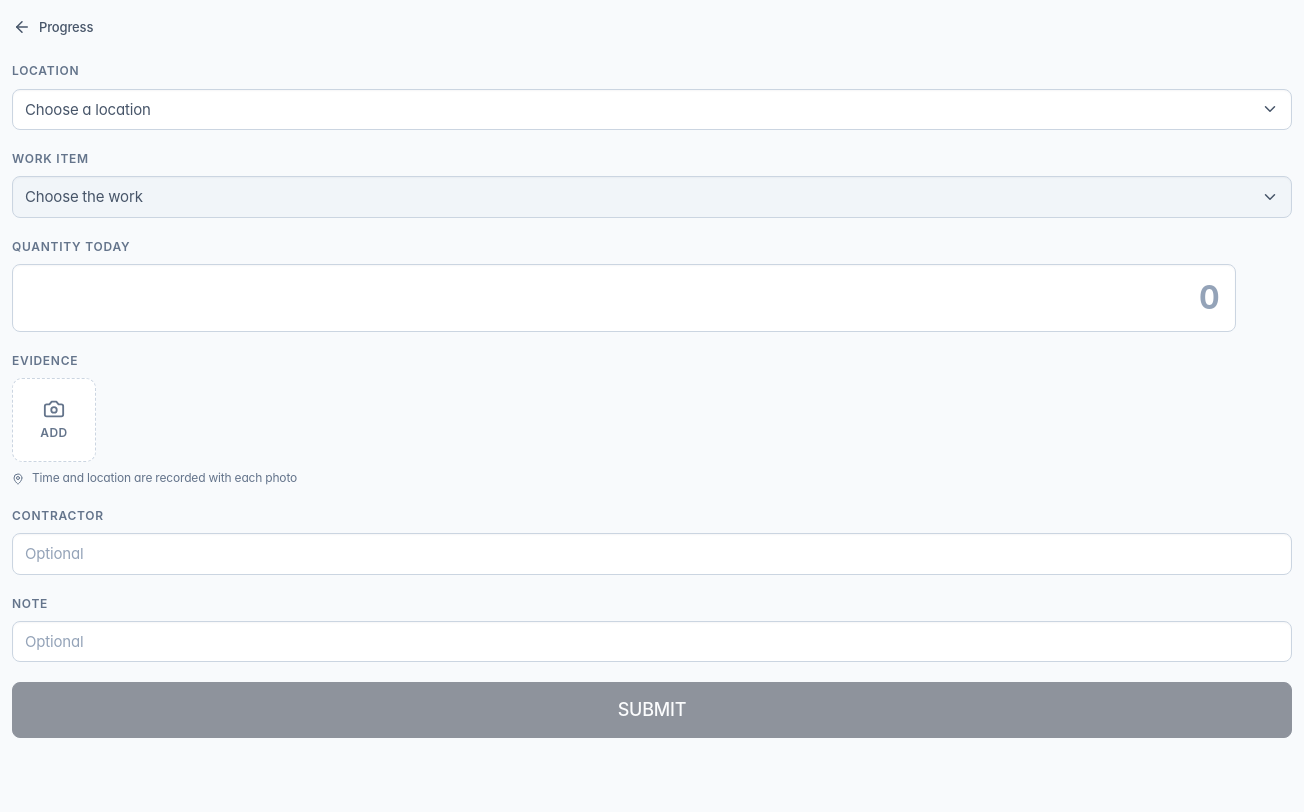
Test: S-M03 progress entry › refuses non-numeric input rather than accepting and failing later
Step 1. Type "12abc.5" into the field named "Quantity today" → (624, 298), box [12,264,1236,332]
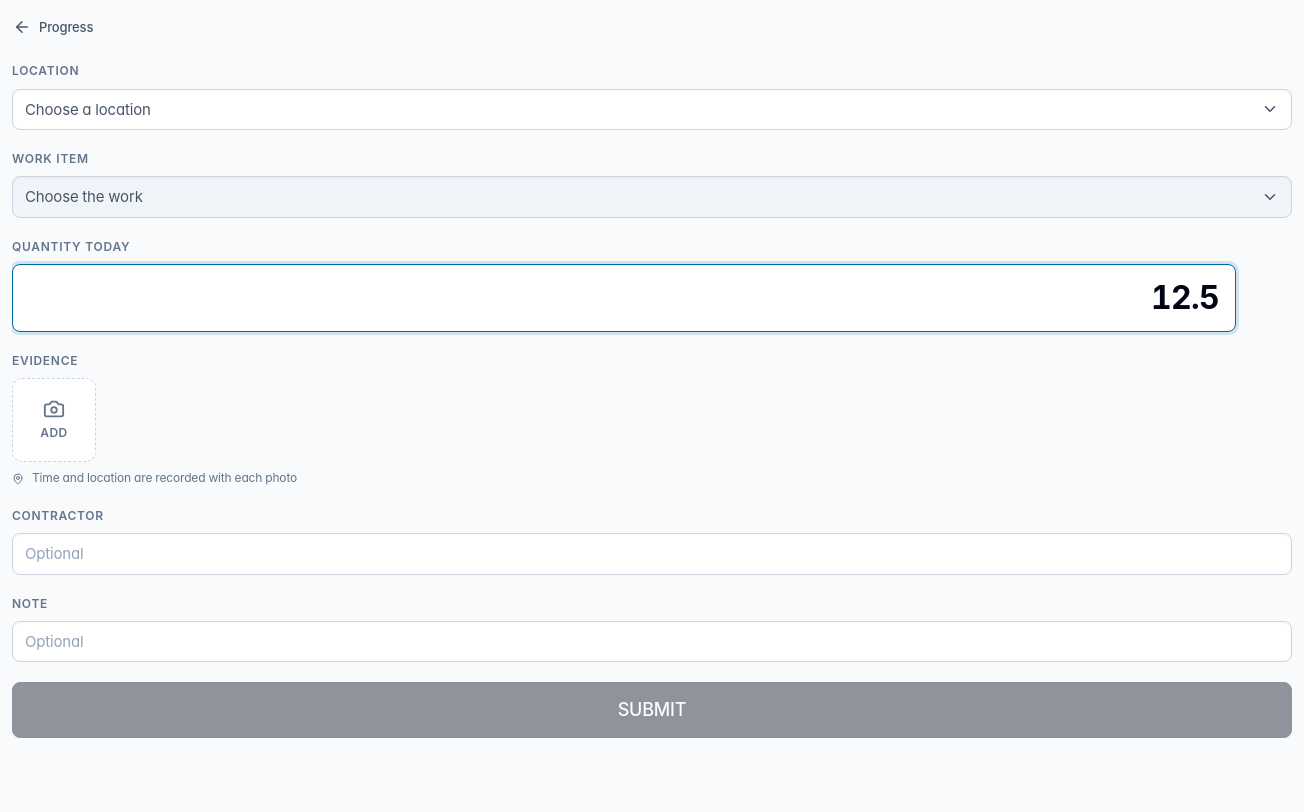
Check: the field named "Quantity today" holds "12.5", box [12,264,1236,332]
